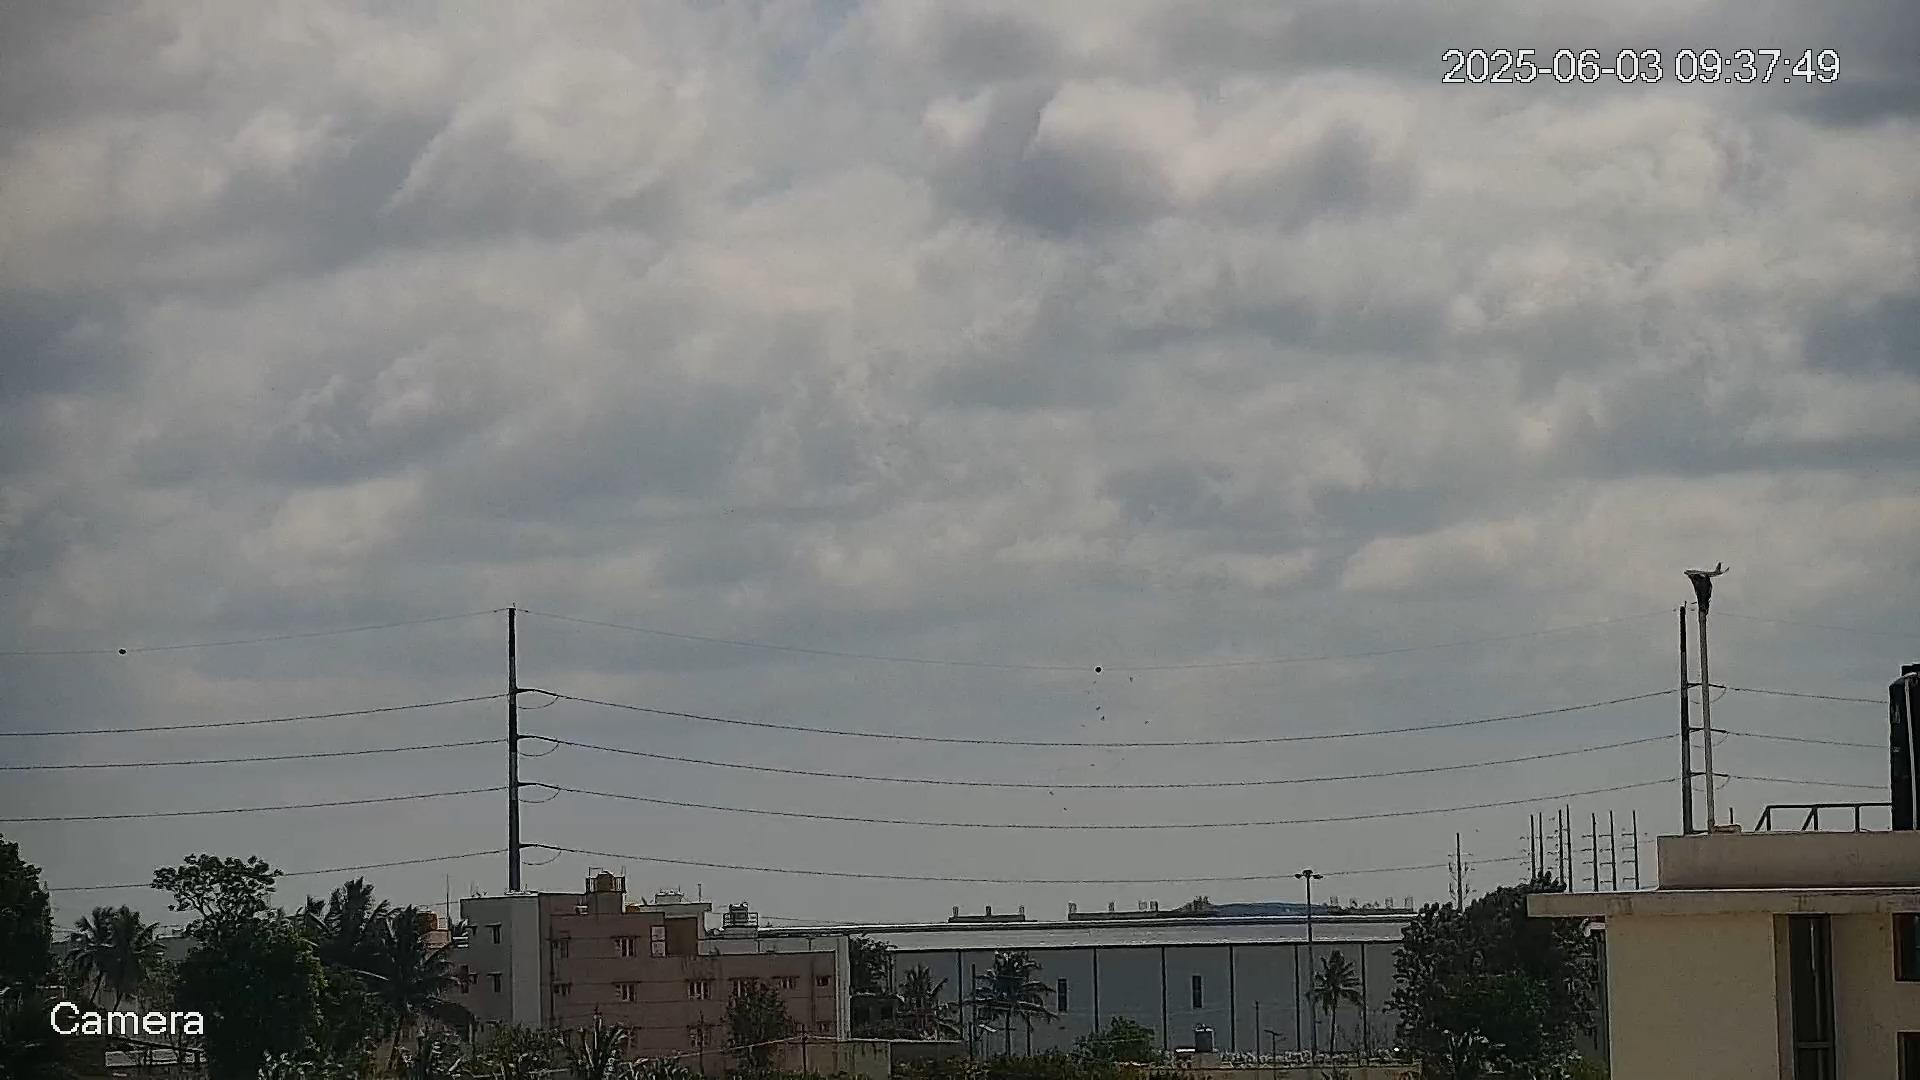Aircraft: (1683, 562, 1730, 578)
